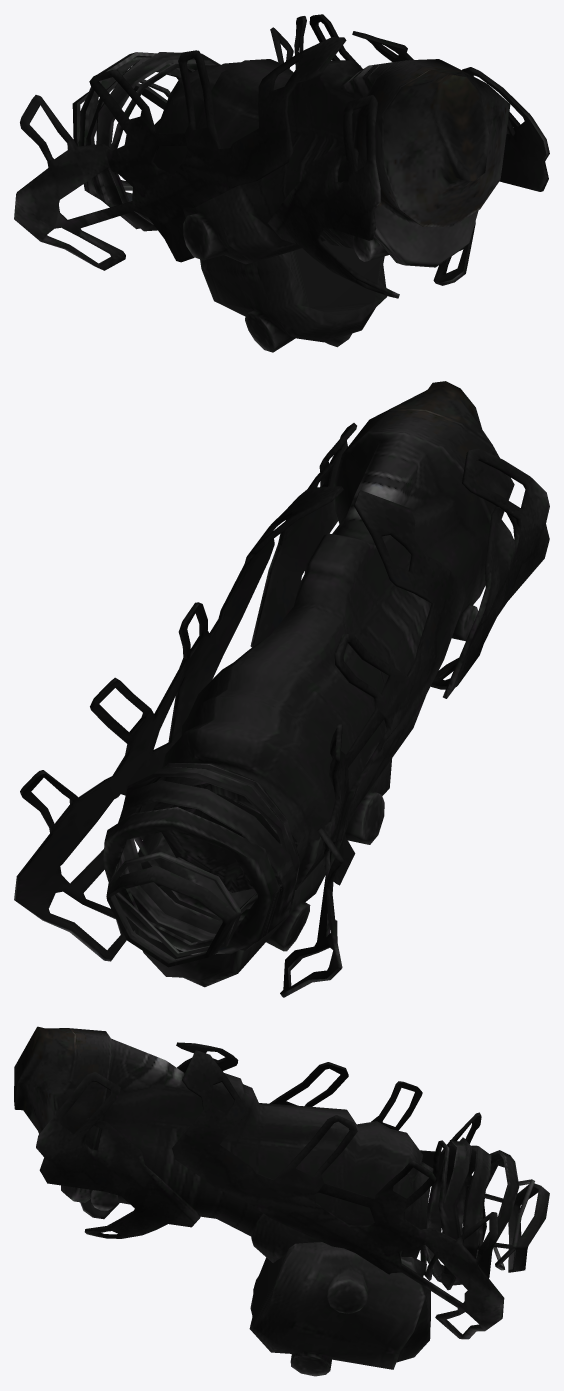
The model's file is mortar_destroyed.dae.
3 renders of one model, top to bottom at view 1: azimuth 30°, elevation 25°; view 2: azimuth 150°, elevation 25°; view 3: azimuth 270°, elevation 25°, orthographic. The views are drawn at different scales.
Visible parts, largest first — view 1: mortar_destroyed; view 2: mortar_destroyed; view 3: mortar_destroyed.
Part boxes in pixels (x1,y1,x2,y2): mortar_destroyed: (14,14,549,352); mortar_destroyed: (14,381,549,997); mortar_destroyed: (14,1026,549,1376).
Bounding box in the file's own units: 0.6135 × 1.19 × 0.8178.
